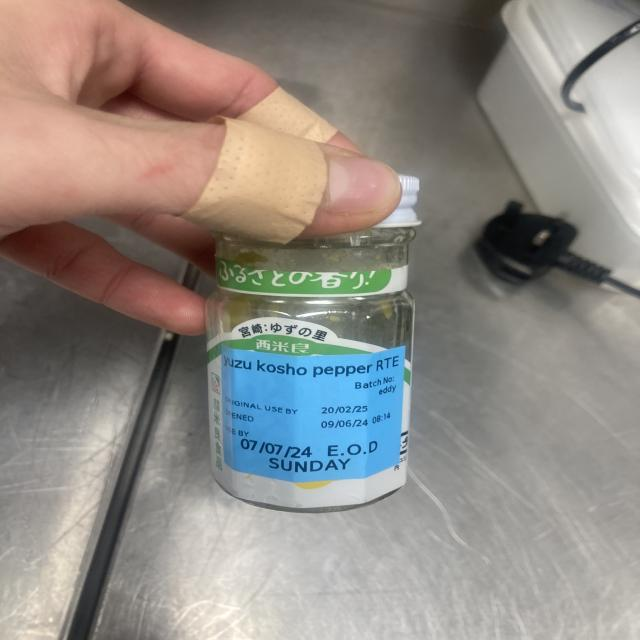product-labels: (217, 346, 405, 481)
